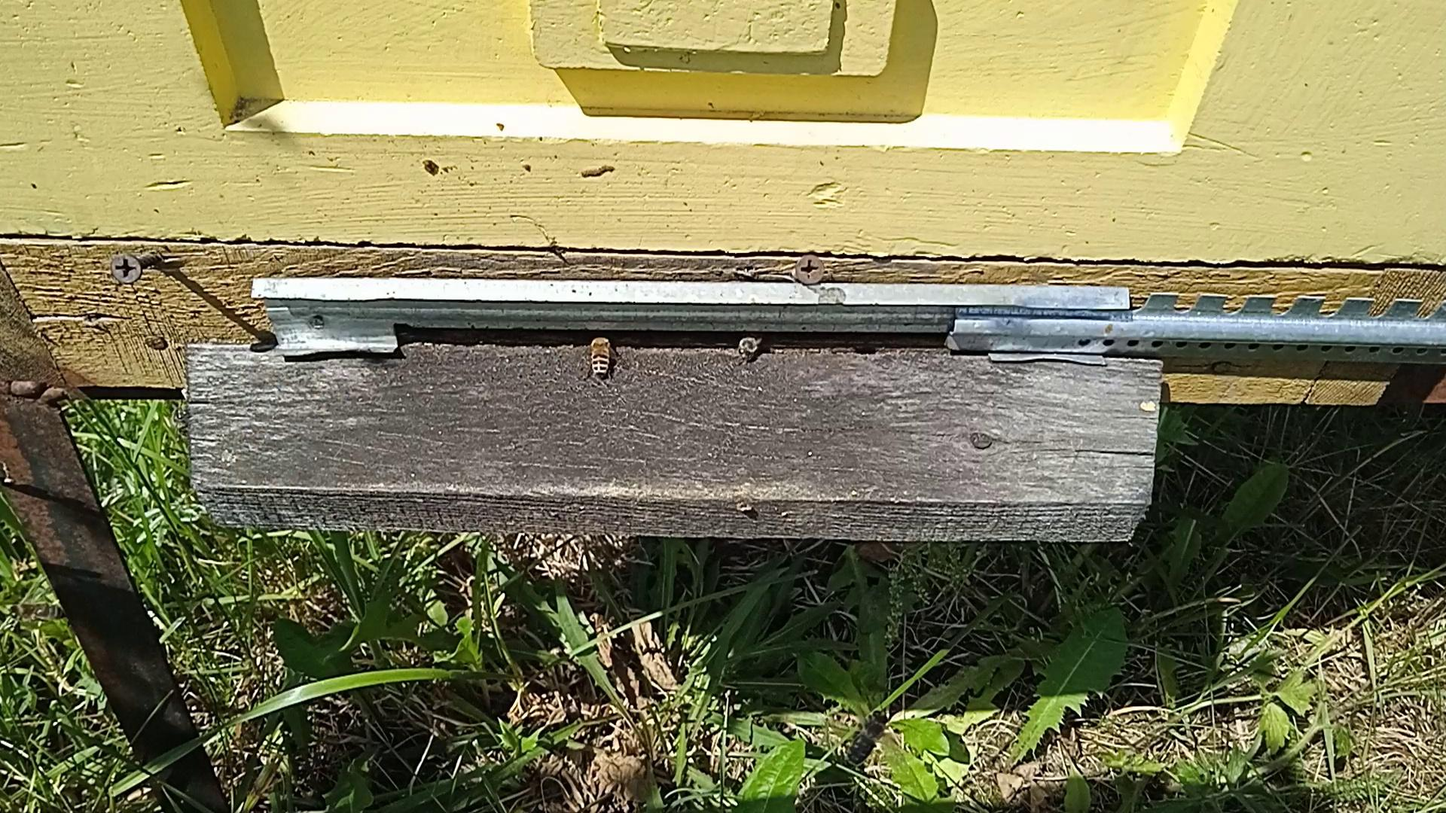worker-bee: (847, 712, 886, 769), (586, 331, 617, 380), (736, 332, 766, 361), (8, 602, 66, 617)
